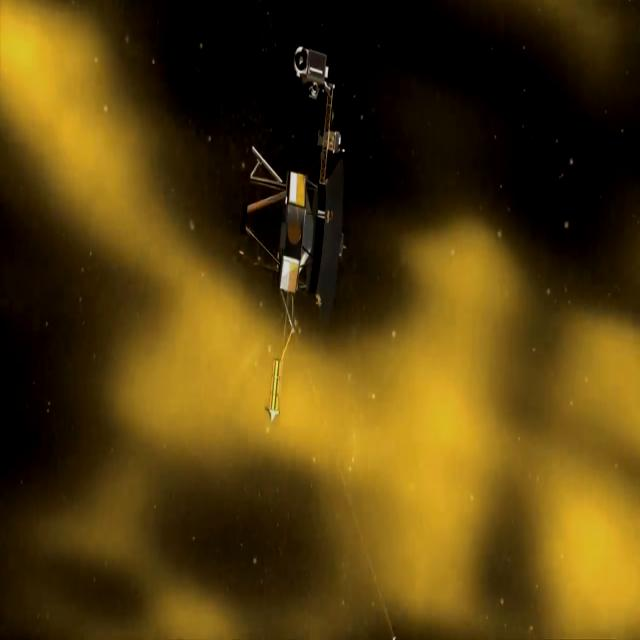medium_debris: (219, 0, 378, 453)
